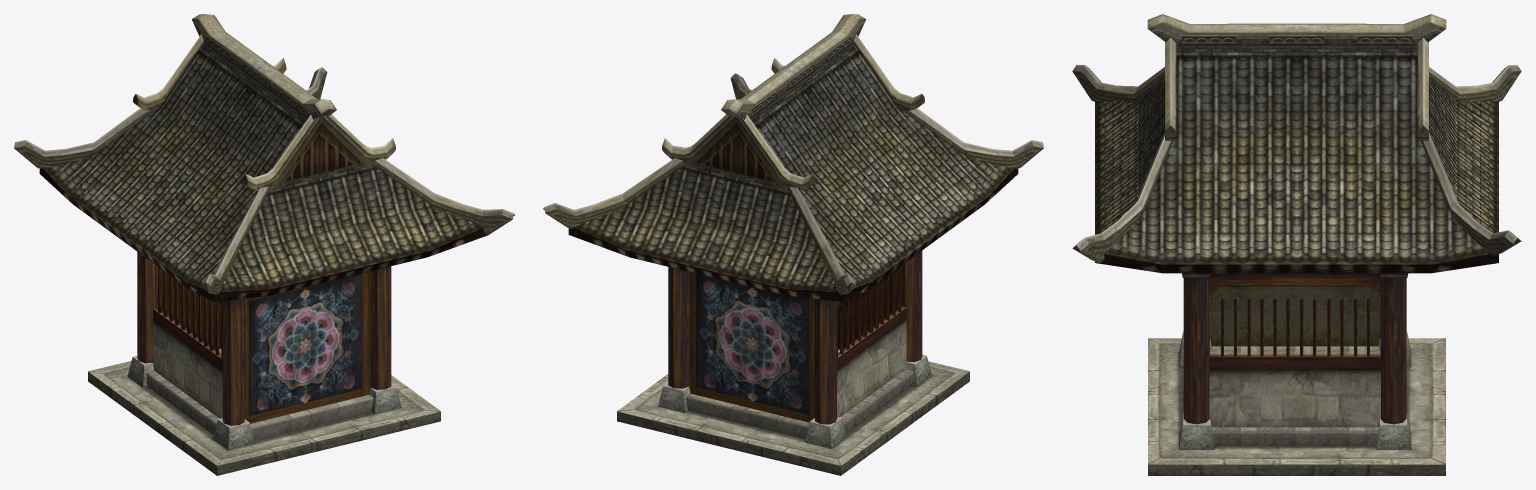
The model's file is b1-004-house2.fbx.
The picture shows the model from 3 angles, left to right: view 1: azimuth 30°, elevation 25°; view 2: azimuth 150°, elevation 25°; view 3: azimuth 270°, elevation 25°; orthographic projection. The views are drawn at different scales.
Visible parts, largest first — view 1: b1-004-hause2; view 2: b1-004-hause2; view 3: b1-004-hause2.
Part boxes in pixels (bbox=[...]): b1-004-hause2: bbox=[14, 14, 514, 475]; b1-004-hause2: bbox=[543, 14, 1043, 475]; b1-004-hause2: bbox=[1072, 14, 1521, 475].
Bounding box in the file's own units: 5.23 × 5.5 × 5.63.
